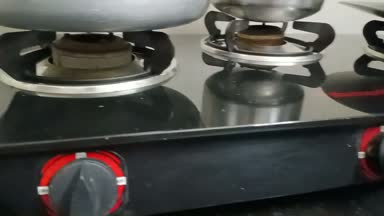noflame_gason: (34, 28, 145, 216)
